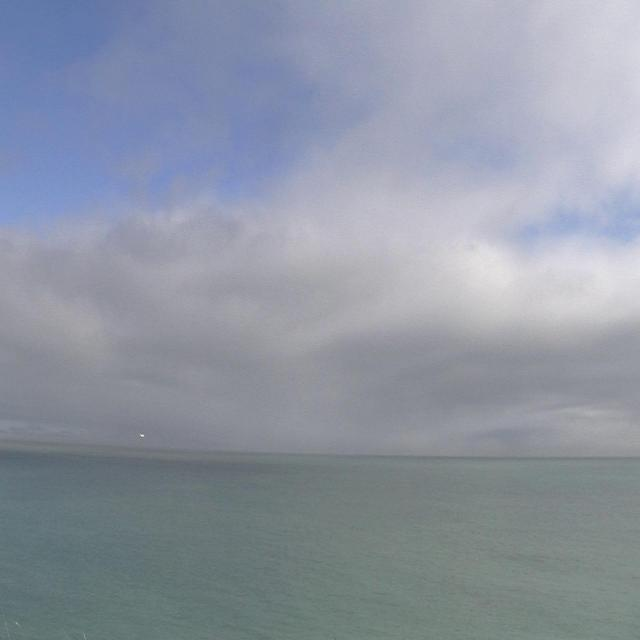drone: (136, 427, 150, 443)
